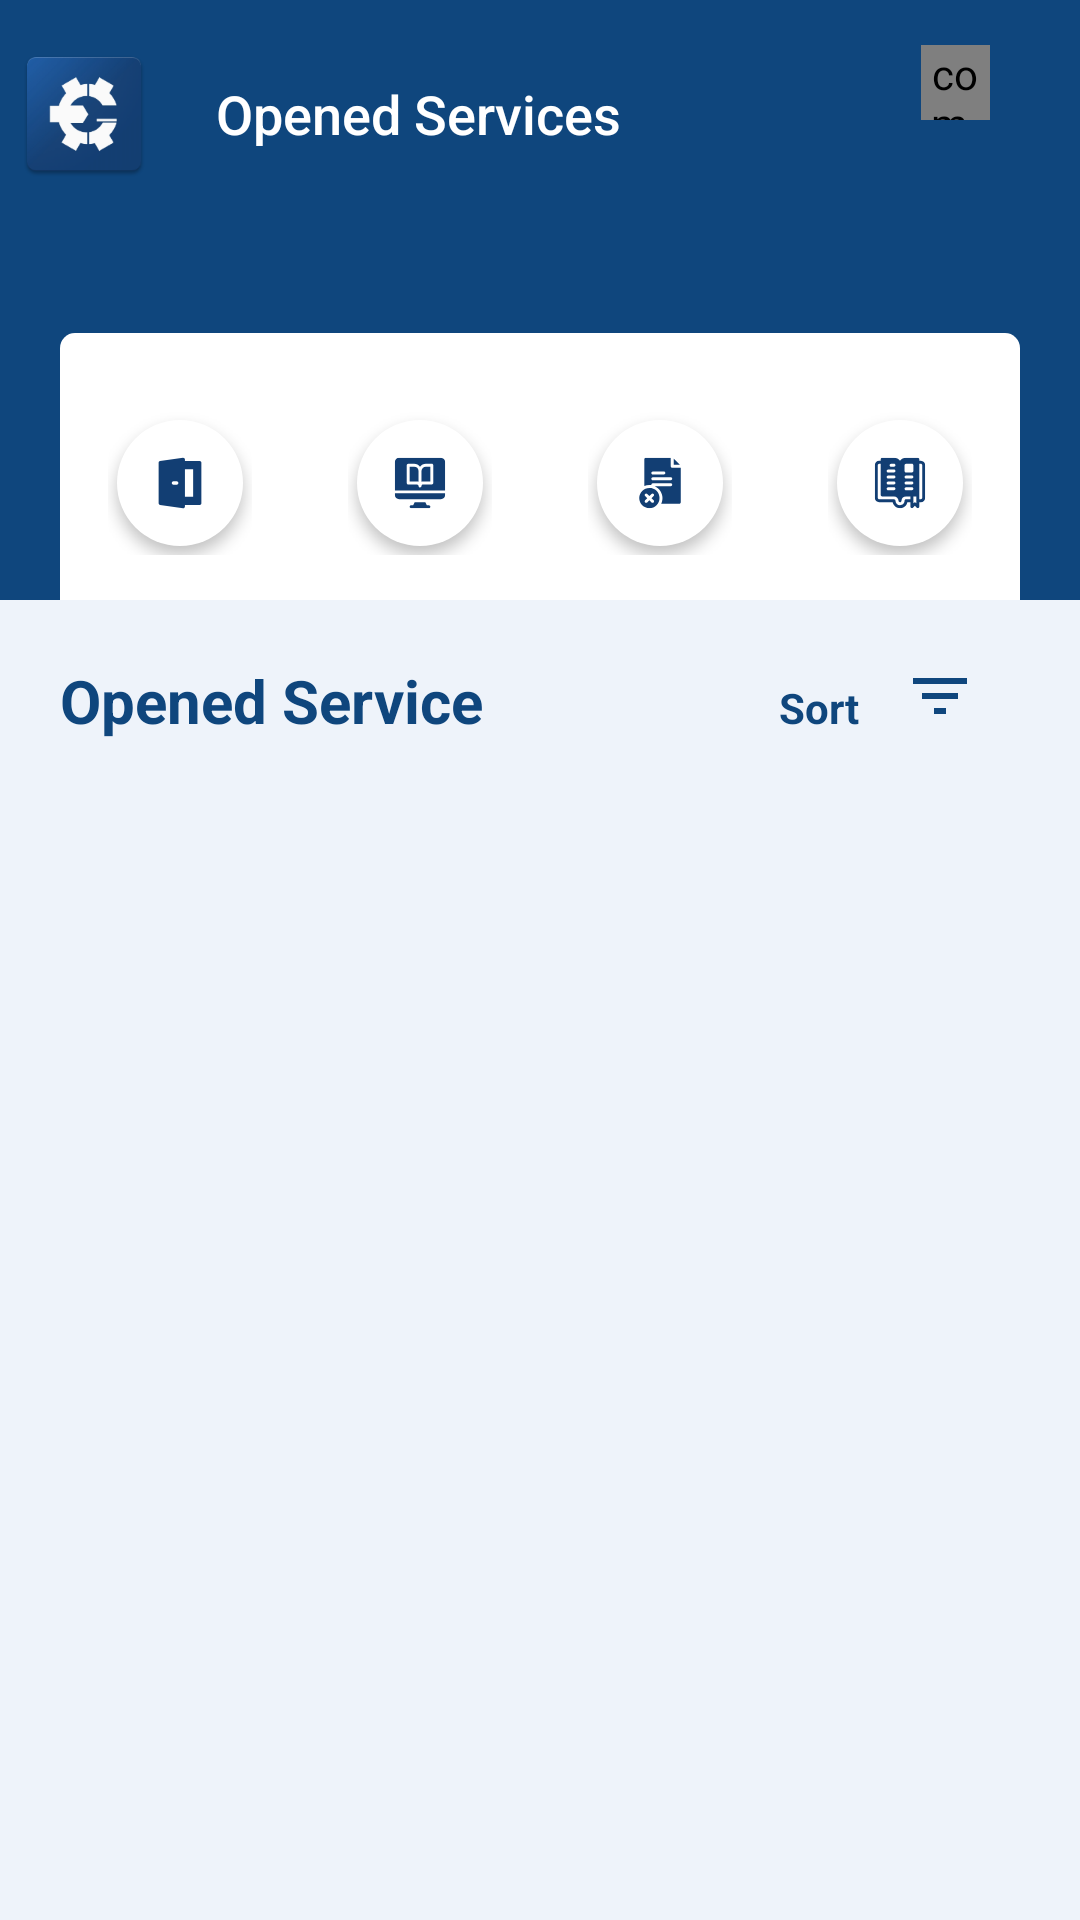

Icon bounding boxes for this 1080 × 1920 phone screenshot, format (x1, y1, x2, y2):
filter list: (913, 678, 967, 714)
